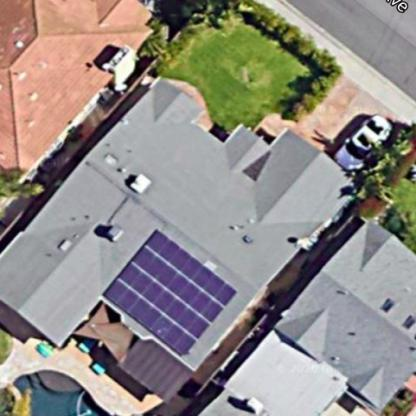car: (324, 107, 389, 175)
solar_panel: (81, 216, 235, 367)
swimming_pool: (6, 353, 112, 416)
